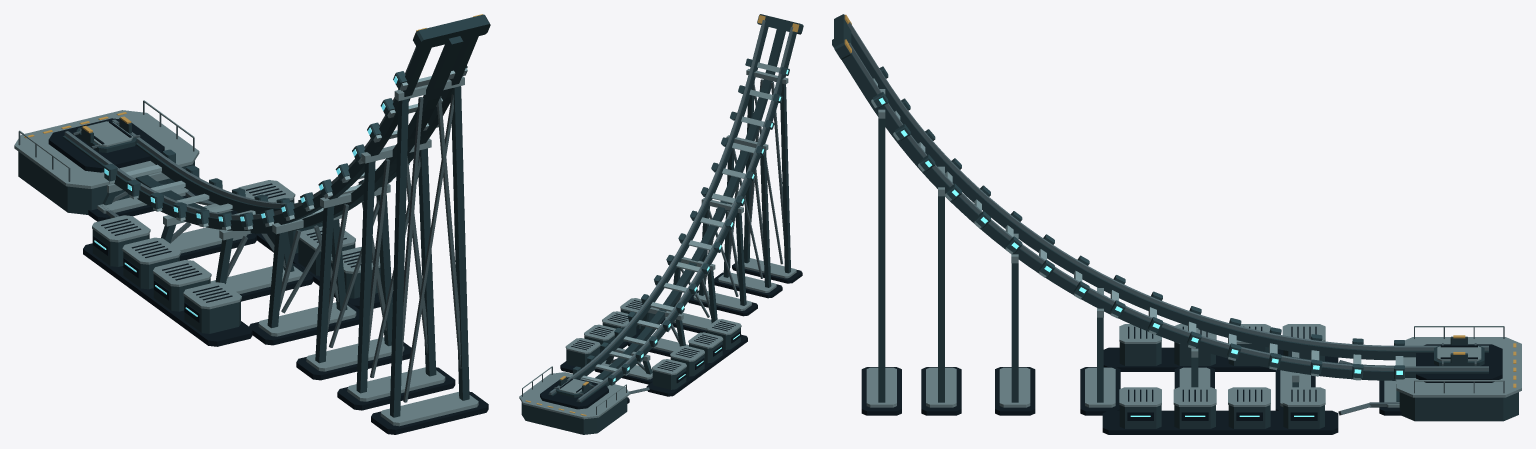
Rendered from arc01_launcher_d0_lod1.glb.
3 renders of one model, left to right at view 1: azimuth 30°, elevation 25°; view 2: azimuth 150°, elevation 25°; view 3: azimuth 270°, elevation 25°, orthographic. The views are drawn at different scales.
Visible parts, largest first — view 1: LAUNCHER_STRUCTURE, PASSAGE_GATES, CONTINUOUS_RAILS, SLED_BODY, ACCELERATOR_LIGHTS; view 2: LAUNCHER_STRUCTURE, PASSAGE_GATES, CONTINUOUS_RAILS, SLED_BODY; view 3: LAUNCHER_STRUCTURE, CONTINUOUS_RAILS, PASSAGE_GATES, SLED_BODY, ACCELERATOR_LIGHTS.
Boxes of the visible parts, x1,y1,x2,y2 form: LAUNCHER_STRUCTURE: (14, 14, 490, 434); PASSAGE_GATES: (104, 66, 467, 230); CONTINUOUS_RAILS: (64, 46, 416, 219); SLED_BODY: (73, 121, 140, 152); ACCELERATOR_LIGHTS: (94, 76, 397, 316); LAUNCHER_STRUCTURE: (519, 14, 803, 434); PASSAGE_GATES: (573, 58, 789, 385); CONTINUOUS_RAILS: (549, 20, 793, 401); SLED_BODY: (554, 378, 594, 397); LAUNCHER_STRUCTURE: (832, 14, 1521, 434); CONTINUOUS_RAILS: (847, 22, 1488, 371); PASSAGE_GATES: (871, 66, 1404, 381); SLED_BODY: (1434, 343, 1484, 366); ACCELERATOR_LIGHTS: (879, 97, 1402, 416).
Size of the model in its own units: 13.1 by 27.02 by 46.23.
